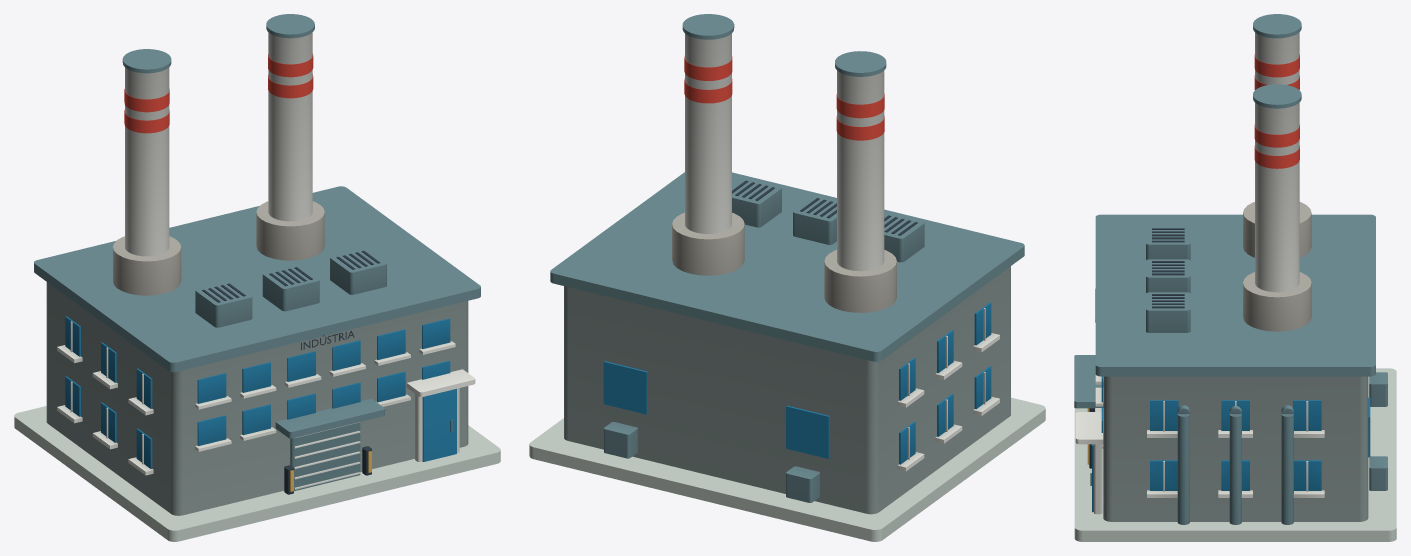
The model's file is industrial-works.glb.
3 renders of one model, left to right at view 1: azimuth 30°, elevation 25°; view 2: azimuth 150°, elevation 25°; view 3: azimuth 270°, elevation 25°, orthographic. The views are drawn at different scales.
Parts seen in each view (by area): view 1: factory roof cornice, main factory hall, window lower sill, recessed factory windows, industrial service slab, chimney base, red aviation marking, open dark chimney mouth; view 2: main factory hall, factory roof cornice, window lower sill, industrial service slab, recessed factory windows, chimney base, red aviation marking, open dark chimney mouth; view 3: factory roof cornice, main factory hall, window lower sill, industrial service slab, recessed factory windows, chimney base, red aviation marking, open dark chimney mouth.
Part boxes in pixels (x1=…): factory roof cornice: x1=34, y1=14, x2=480, y2=491; main factory hall: x1=46, y1=282, x2=468, y2=515; window lower sill: x1=57, y1=32, x2=475, y2=489; recessed factory windows: x1=65, y1=316, x2=456, y2=468; industrial service slab: x1=14, y1=406, x2=500, y2=541; chimney base: x1=113, y1=201, x2=324, y2=295; red aviation marking: x1=124, y1=53, x2=313, y2=133; open dark chimney mouth: x1=202, y1=250, x2=380, y2=494; main factory hall: x1=564, y1=266, x2=1010, y2=514; factory roof cornice: x1=550, y1=14, x2=1024, y2=502; window lower sill: x1=685, y1=33, x2=999, y2=471; industrial service slab: x1=529, y1=397, x2=1045, y2=541; recessed factory windows: x1=603, y1=302, x2=991, y2=464; chimney base: x1=672, y1=212, x2=896, y2=312; red aviation marking: x1=684, y1=56, x2=884, y2=140; open dark chimney mouth: x1=732, y1=180, x2=917, y2=235; factory roof cornice: x1=1074, y1=14, x2=1387, y2=524; main factory hall: x1=1103, y1=376, x2=1368, y2=521; window lower sill: x1=1075, y1=32, x2=1324, y2=514; industrial service slab: x1=1074, y1=368, x2=1396, y2=541; recessed factory windows: x1=1092, y1=376, x2=1370, y2=512; chimney base: x1=1243, y1=202, x2=1311, y2=331; red aviation marking: x1=1254, y1=54, x2=1299, y2=168; open dark chimney mouth: x1=1089, y1=228, x2=1184, y2=468.
Size of the model in its own units: 7.4 by 8.34 by 6.21.
